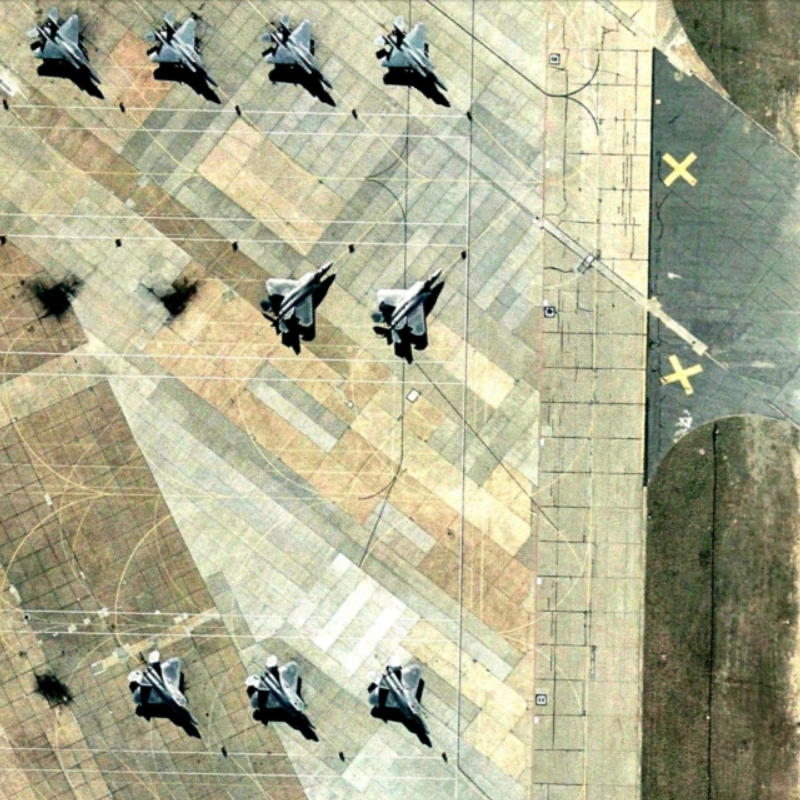A13: (133, 5, 227, 97), (250, 8, 343, 100), (15, 1, 106, 87), (365, 13, 454, 95)
A15: (251, 256, 341, 343), (365, 266, 449, 355), (239, 649, 321, 738), (121, 646, 204, 729), (360, 659, 437, 739)
